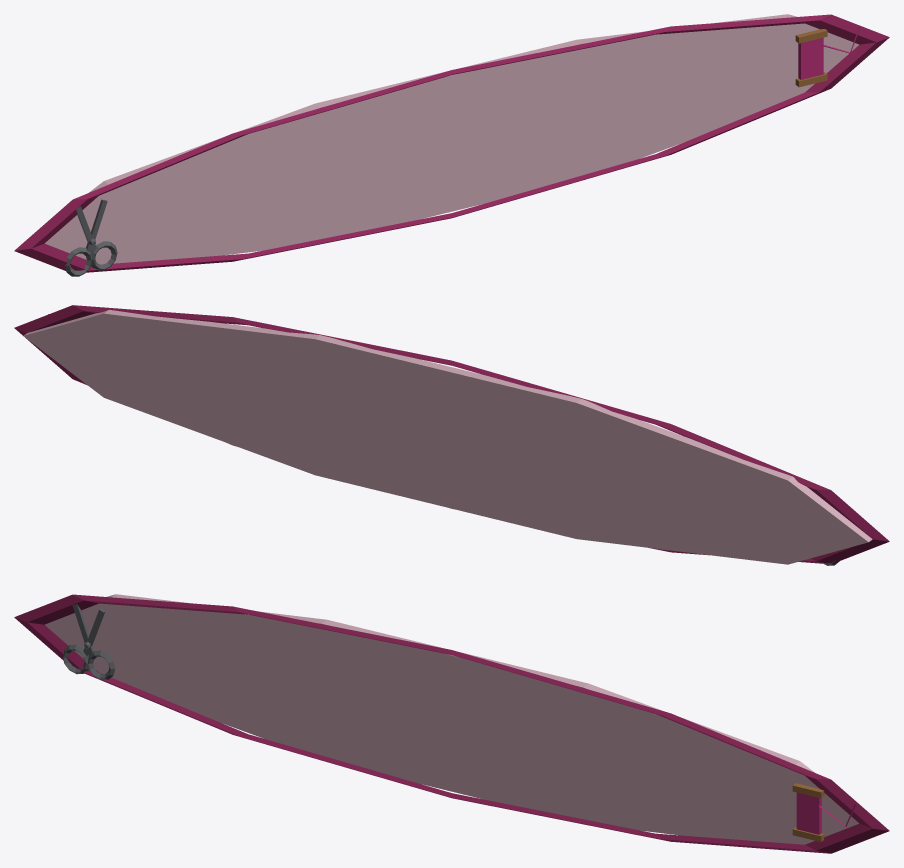
File: bang_tiem_may_hong_nhung_48.glb
3 renders of one model, top to bottom at view 1: azimuth 30°, elevation 25°; view 2: azimuth 150°, elevation 25°; view 3: azimuth 330°, elevation 25°, orthographic.
Parts seen in each view (by area): view 1: bang_tiem_may_hong_nhung_48; view 2: bang_tiem_may_hong_nhung_48; view 3: bang_tiem_may_hong_nhung_48.
Part boxes in pixels (x1,y1,x2,y2): bang_tiem_may_hong_nhung_48: (14,14,889,276); bang_tiem_may_hong_nhung_48: (14,305,889,565); bang_tiem_may_hong_nhung_48: (14,594,889,853).
Bounding box in the file's own units: 4.61 × 0.7459 × 0.0925.
